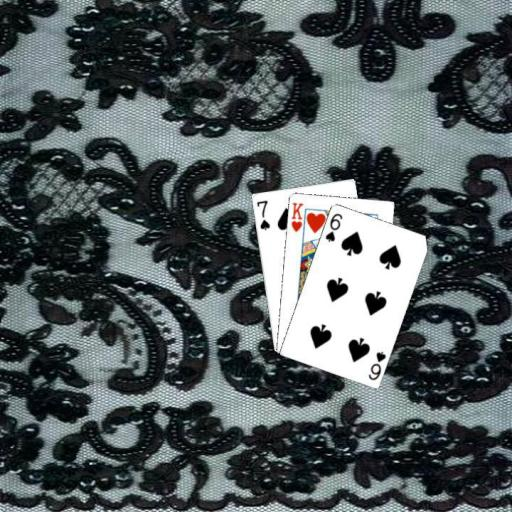6S: (365, 348, 388, 381), (322, 210, 344, 243)
7S: (253, 197, 271, 231)
KH: (288, 199, 304, 233)
